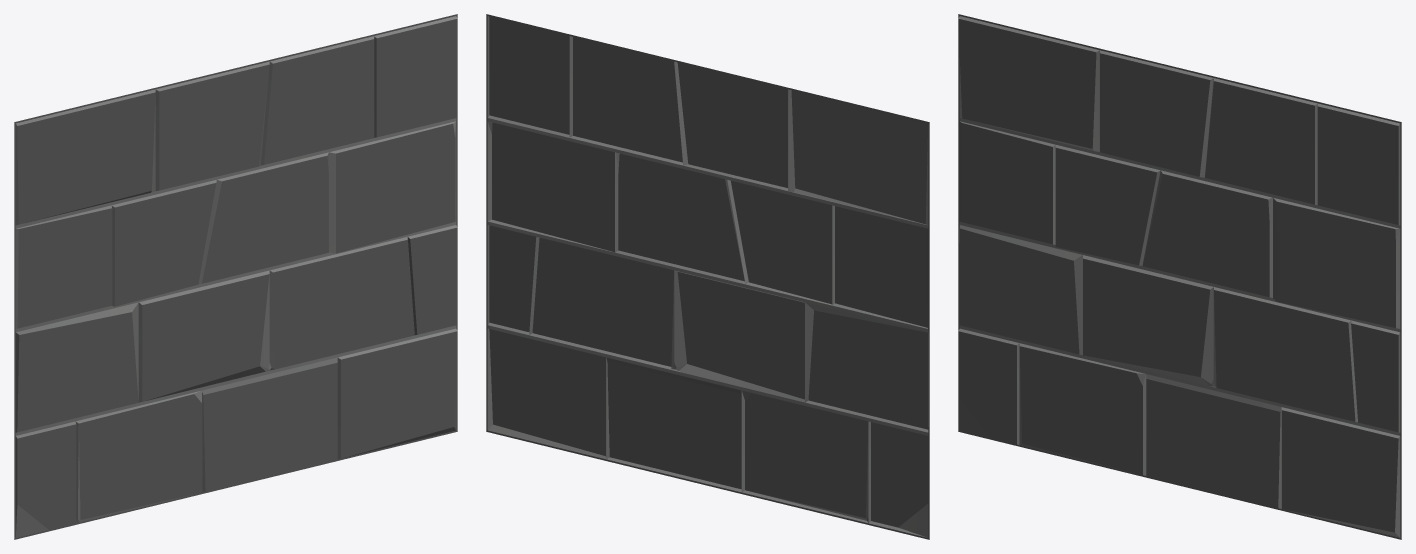
The model's file is Wall_02.fbx.
The picture shows the model from 3 angles, left to right: view 1: azimuth 30°, elevation 25°; view 2: azimuth 150°, elevation 25°; view 3: azimuth 330°, elevation 25°; orthographic projection.
Visible parts, largest first — view 1: Wall_02; view 2: Wall_02; view 3: Wall_02.
Part boxes in pixels (left/top/right/bottom): Wall_02: left=14, top=14, right=457, bottom=539; Wall_02: left=486, top=14, right=929, bottom=539; Wall_02: left=958, top=14, right=1401, bottom=539.
Bounding box in the file's own units: 280 × 252 × 1.76.
